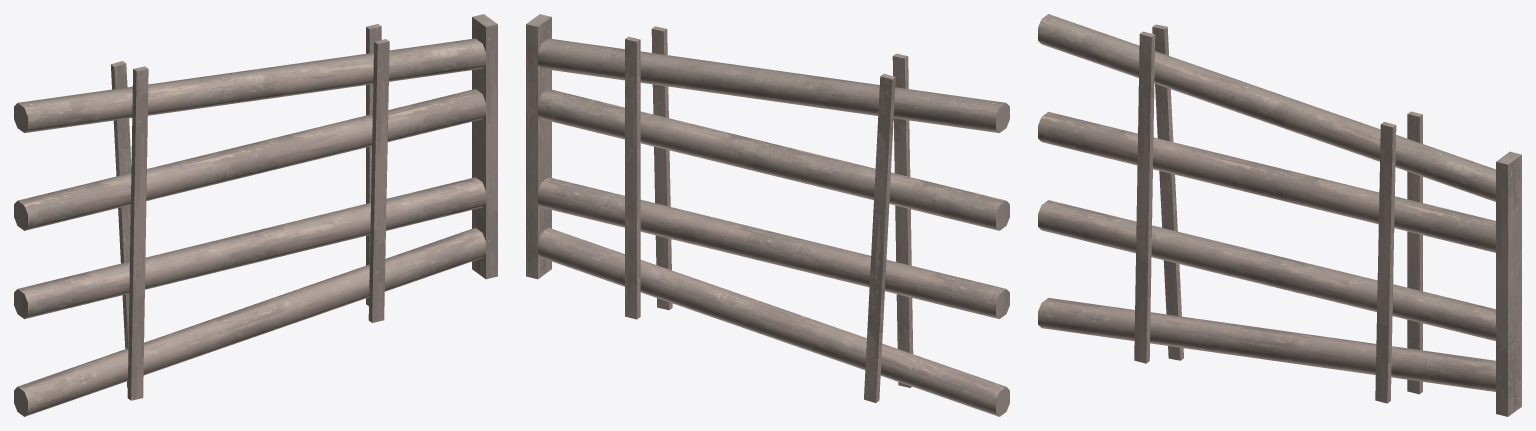
The model's file is props_forest_bridge_support2.glb.
The picture shows the model from 3 angles, left to right: view 1: azimuth 30°, elevation 25°; view 2: azimuth 150°, elevation 25°; view 3: azimuth 330°, elevation 25°; orthographic projection.
Parts seen in each view (by area): view 1: models/props_forest/bridge_support2; view 2: models/props_forest/bridge_support2; view 3: models/props_forest/bridge_support2.
Boxes of the visible parts, box(x1,y1,x2,y2) form: models/props_forest/bridge_support2: box(14, 14, 497, 416); models/props_forest/bridge_support2: box(526, 14, 1009, 416); models/props_forest/bridge_support2: box(1038, 14, 1521, 416).
Size of the model in its own units: 312 by 212 by 24.
1 material, 1 textured.
